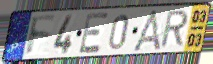0: (107, 13, 132, 51)
4: (52, 13, 75, 56)
A: (131, 8, 163, 52)
E: (78, 11, 111, 55)
F: (25, 15, 57, 58)
R: (158, 9, 191, 50)
